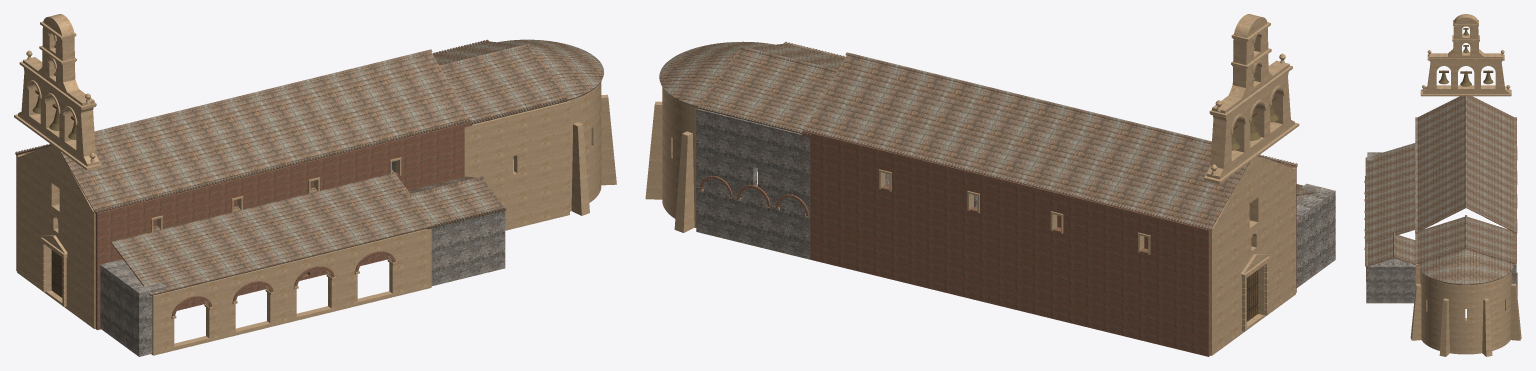
Rendered from duero69_santamaria512.glb.
3 renders of one model, left to right at view 1: azimuth 30°, elevation 25°; view 2: azimuth 150°, elevation 25°; view 3: azimuth 270°, elevation 25°, orthographic. The views are drawn at different scales.
Visible parts, largest first — view 1: SantaMaria68_SantaMaria68_CC0_curved_clay_roof, SantaMaria68_SantaMaria68_CC0_warm_dressed_stone, SantaMaria68_SantaMaria68_CC0_weathered_brick, SantaMaria68_SantaMaria68_CC0_rebuilt_rubble, SantaMaria68_SantaMaria68_CC0_deep_timber_doors; view 2: SantaMaria68_SantaMaria68_CC0_weathered_brick, SantaMaria68_SantaMaria68_CC0_curved_clay_roof, SantaMaria68_SantaMaria68_CC0_warm_dressed_stone, SantaMaria68_SantaMaria68_CC0_rebuilt_rubble, SantaMaria68_SantaMaria68_CC0_deep_timber_doors; view 3: SantaMaria68_SantaMaria68_CC0_curved_clay_roof, SantaMaria68_SantaMaria68_CC0_warm_dressed_stone, SantaMaria68_SantaMaria68_CC0_rebuilt_rubble, SantaMaria68_SantaMaria68_patinated_bell_bronze.
Boxes of the visible parts, box(x1,y1,x2,y2) form: SantaMaria68_SantaMaria68_CC0_curved_clay_roof: box(15, 39, 603, 295); SantaMaria68_SantaMaria68_CC0_warm_dressed_stone: box(14, 14, 616, 355); SantaMaria68_SantaMaria68_CC0_weathered_brick: box(16, 121, 472, 330); SantaMaria68_SantaMaria68_CC0_rebuilt_rubble: box(100, 161, 505, 356); SantaMaria68_SantaMaria68_CC0_deep_timber_doors: box(35, 89, 74, 297); SantaMaria68_SantaMaria68_CC0_weathered_brick: box(699, 130, 1296, 356); SantaMaria68_SantaMaria68_CC0_curved_clay_roof: box(659, 41, 1318, 230); SantaMaria68_SantaMaria68_CC0_warm_dressed_stone: box(645, 14, 1299, 355); SantaMaria68_SantaMaria68_CC0_rebuilt_rubble: box(696, 108, 1335, 287); SantaMaria68_SantaMaria68_CC0_deep_timber_doors: box(1233, 96, 1276, 321); SantaMaria68_SantaMaria68_CC0_curved_clay_roof: box(1365, 95, 1516, 284); SantaMaria68_SantaMaria68_CC0_warm_dressed_stone: box(1364, 14, 1521, 356); SantaMaria68_SantaMaria68_CC0_rebuilt_rubble: box(1366, 152, 1516, 303); SantaMaria68_SantaMaria68_patinated_bell_bronze: box(1439, 29, 1493, 86).
Size of the model in its own units: 47.17 by 23.25 by 18.75.
7 materials, 5 textured.
